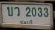txt21: (6, 6, 14, 16)
txt32: (14, 6, 20, 17)
